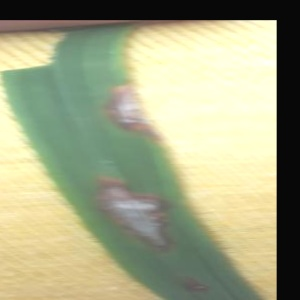Brown_Spot: (77, 163, 180, 255), (92, 67, 163, 149)
